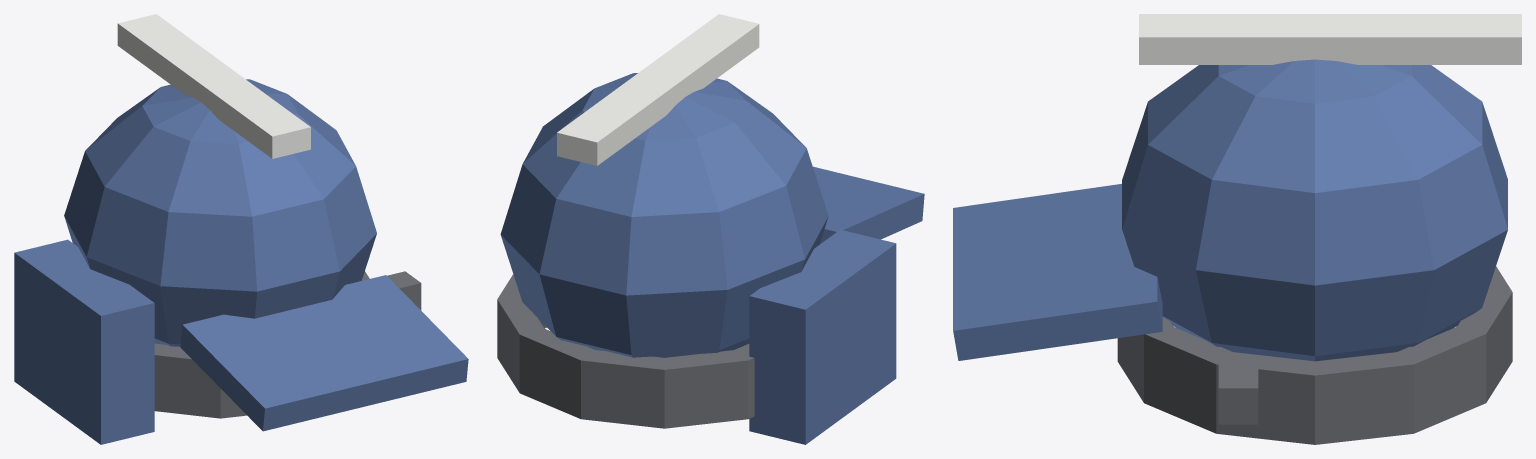
File: baseball-park-and-batting-cages-batting-helmet-3ea0adb5__33769.glb
The picture shows the model from 3 angles, left to right: view 1: azimuth 30°, elevation 25°; view 2: azimuth 150°, elevation 25°; view 3: azimuth 270°, elevation 25°; orthographic projection. The views are drawn at different scales.
Visible parts, largest first — view 1: batting-helmet; view 2: batting-helmet; view 3: batting-helmet.
Boxes of the visible parts, bbox=[...] form: batting-helmet: bbox=[14, 14, 468, 444]; batting-helmet: bbox=[497, 14, 924, 444]; batting-helmet: bbox=[953, 14, 1521, 444].
Bounding box in the file's own units: 0.31 × 0.2555 × 0.3714.
